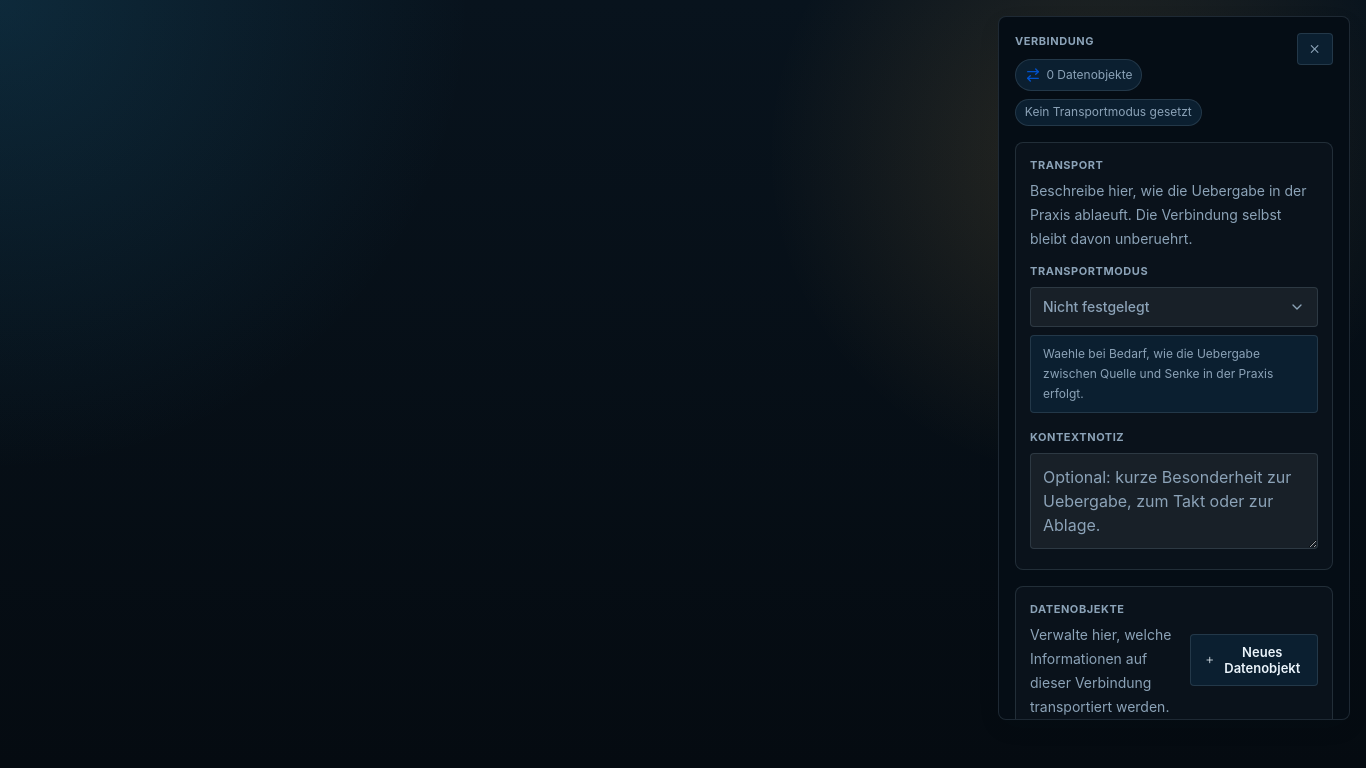
Test: EdgeDetailPanel › creates a new transport mode inline and selects it
Click the button with test id "edge-transport-mode-trigger" at [1096, 306], box [1030, 287, 1318, 327]
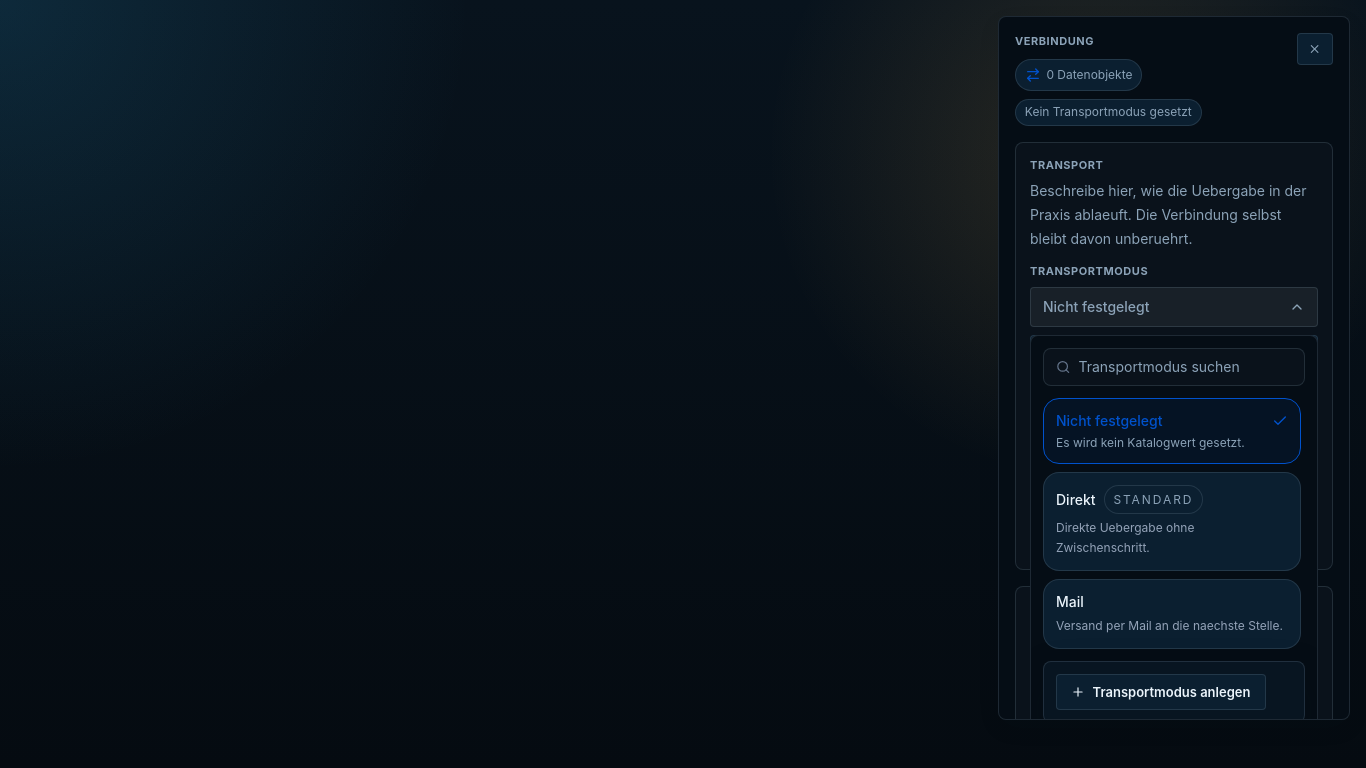
Click the button with test id "edge-transport-mode-create-toggle" at [1161, 692], box [1056, 674, 1266, 710]
(page scrolled)
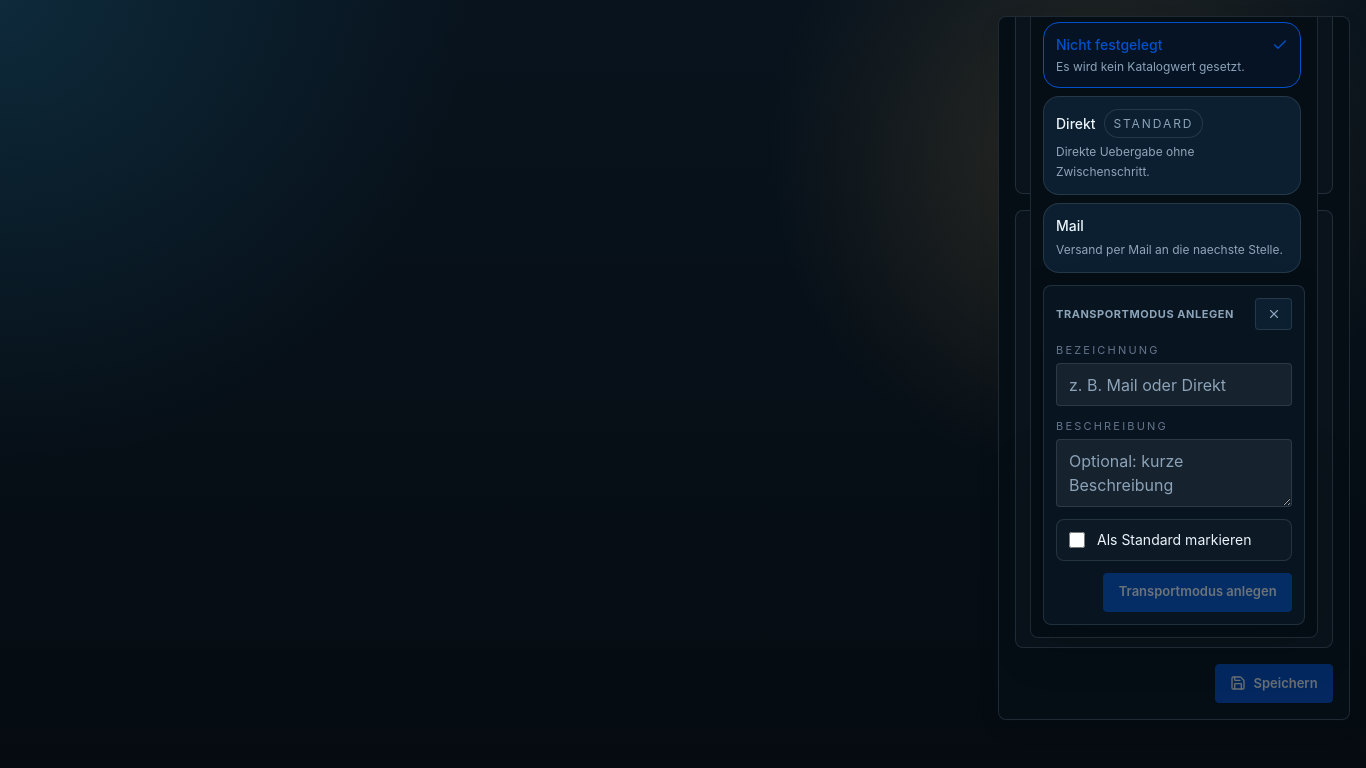
Type "Portal" into the field with test id "edge-transport-mode-create-name" at [1174, 385], box [1056, 363, 1292, 406]
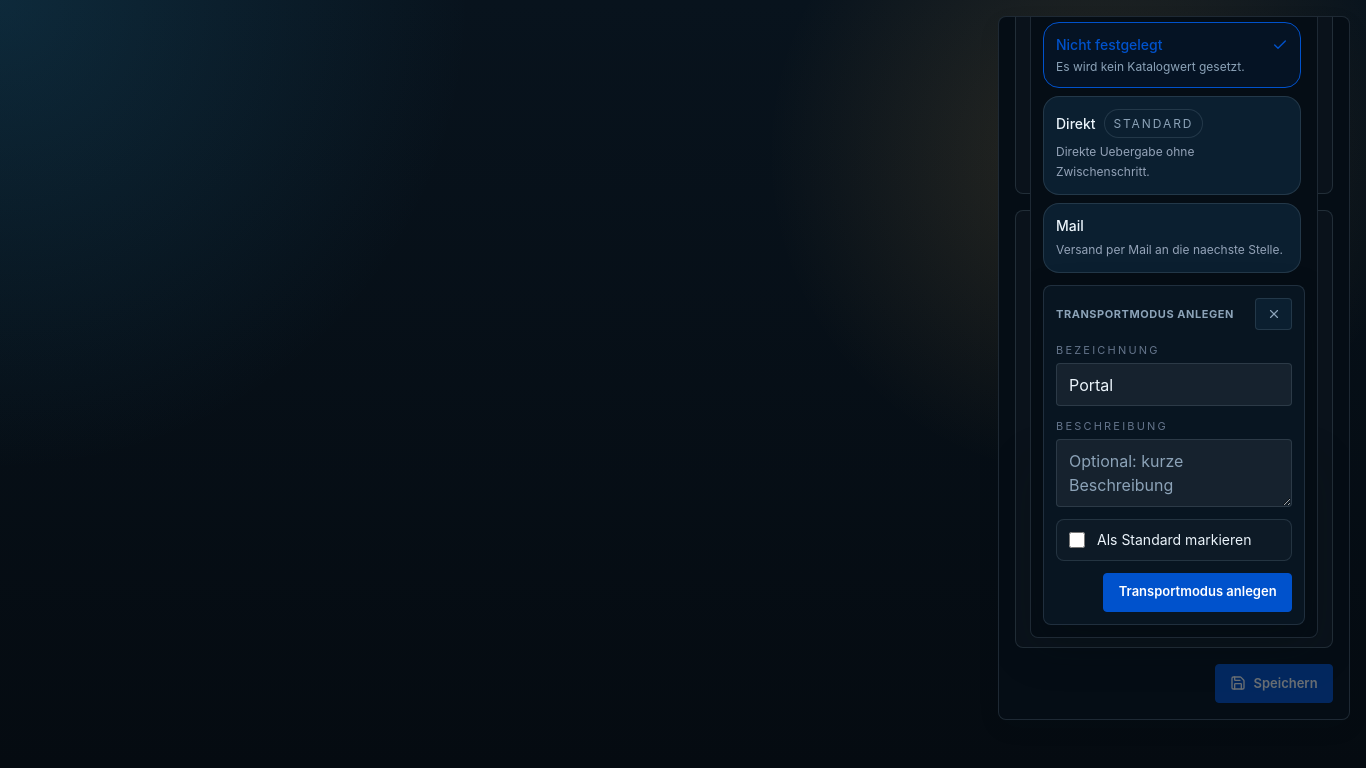
Type "Bereitstellung im Fachportal." into the text box with test id "edge-transport-mode-create-description" at [1174, 473], box [1056, 439, 1292, 507]
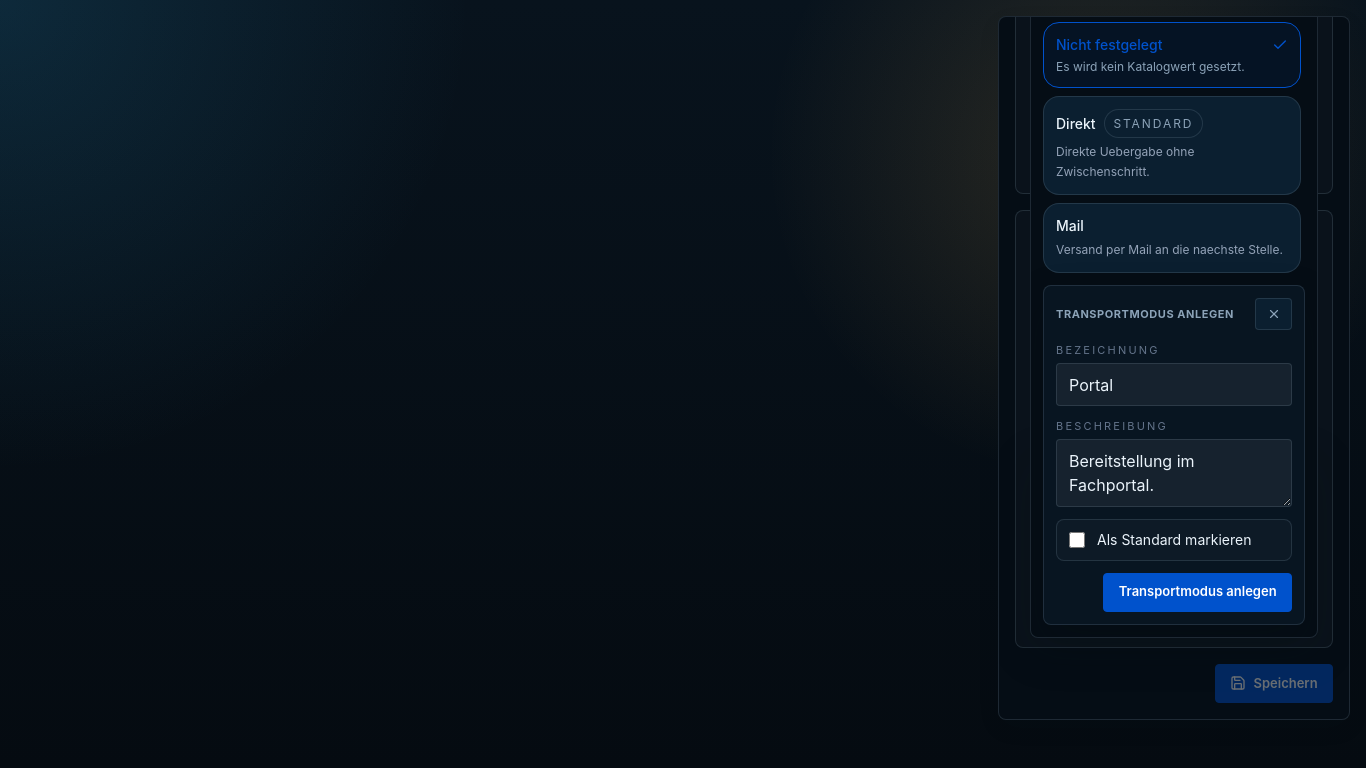
Click the button with test id "edge-transport-mode-create-submit" at [1198, 592], box [1103, 573, 1292, 612]
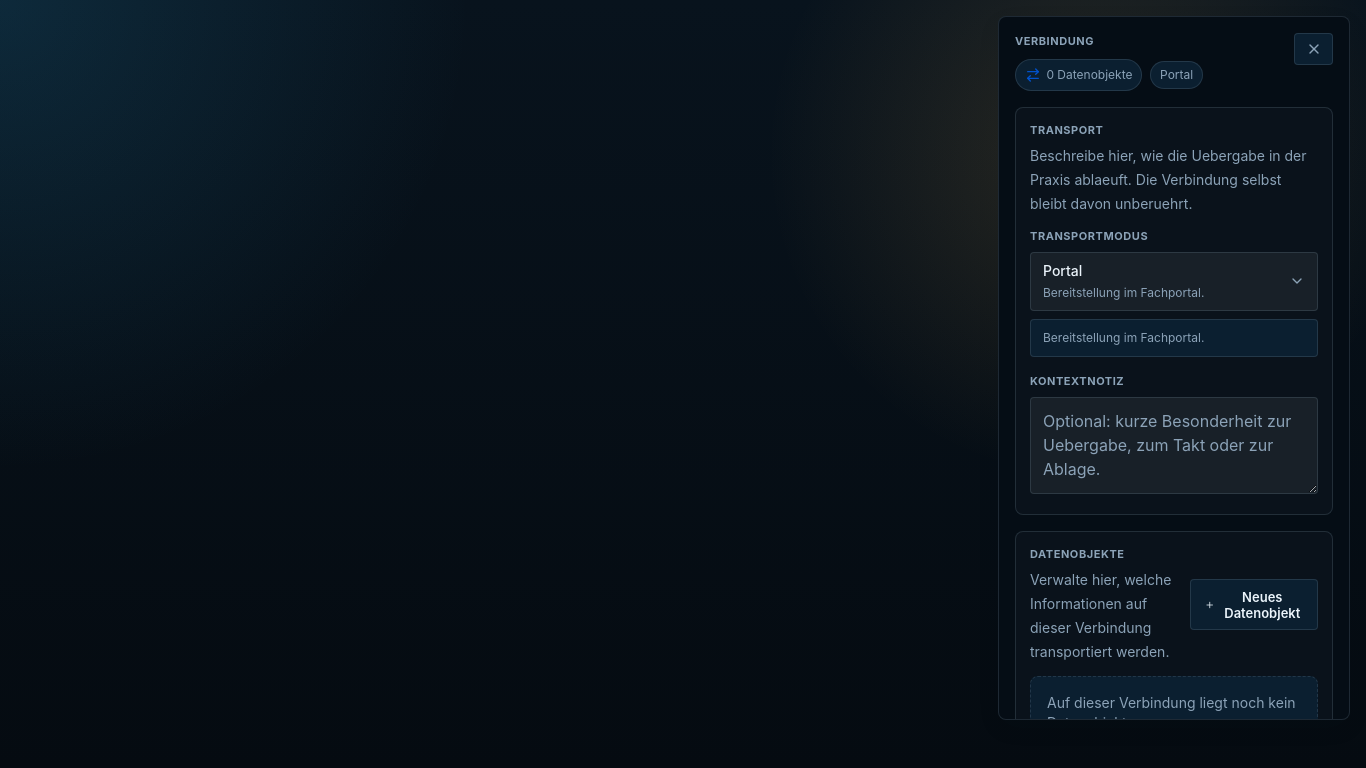
Check: the button with test id "edge-transport-mode-trigger" shows "Portal", box [1030, 252, 1318, 311]
